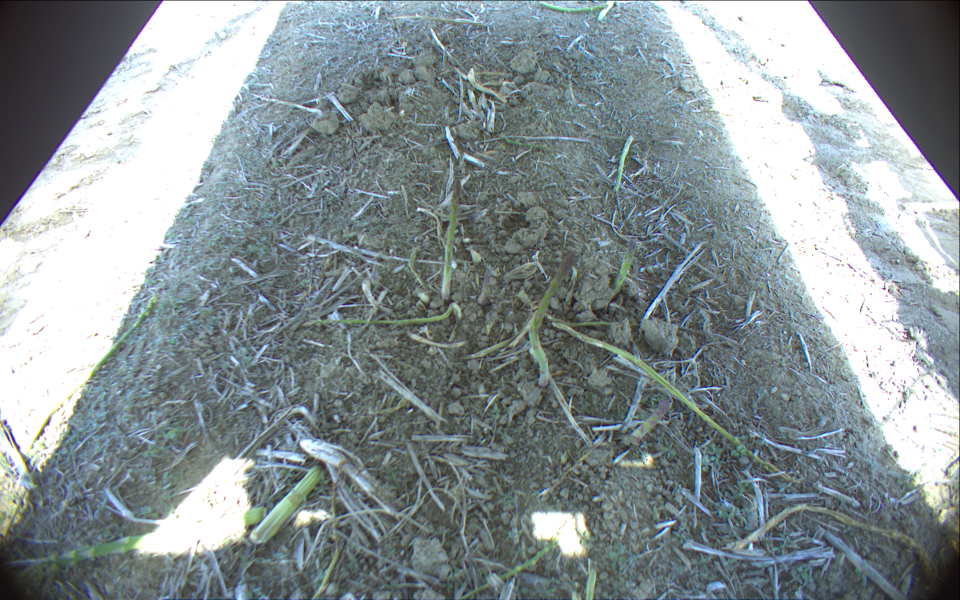aspa: (552, 321, 807, 489), (20, 293, 160, 461), (1, 506, 268, 591), (726, 503, 942, 580), (529, 251, 579, 387), (248, 465, 326, 547), (462, 537, 561, 600), (304, 305, 457, 334), (441, 177, 462, 302), (607, 237, 638, 298), (407, 247, 434, 301), (615, 134, 633, 198), (540, 1, 609, 14), (476, 269, 492, 306), (597, 1, 616, 22), (585, 567, 597, 600)
